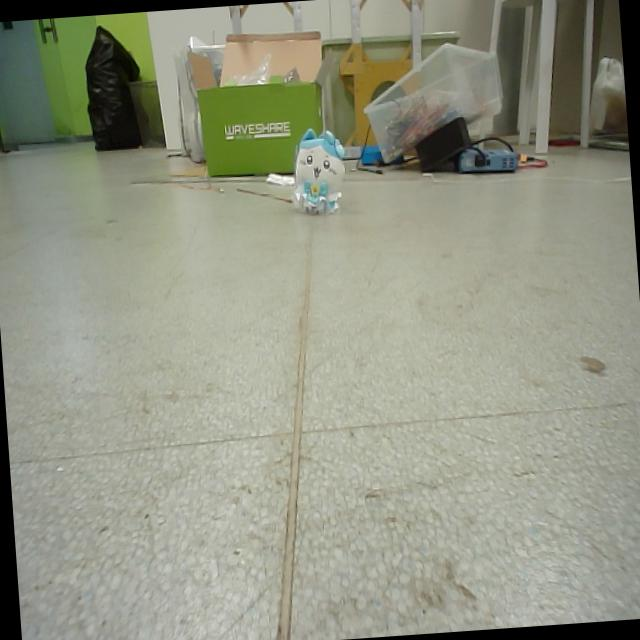xiaoba: (288, 124, 348, 220)
